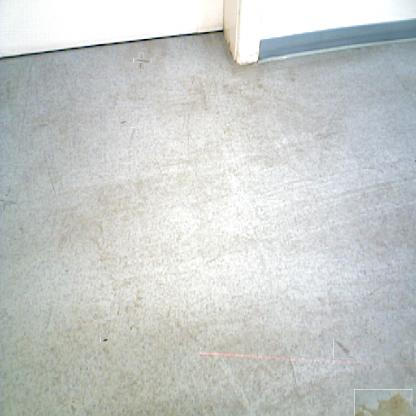liquid: (354, 389, 413, 416)
mark: (333, 338, 355, 359), (286, 354, 296, 384), (0, 191, 14, 208), (136, 55, 147, 66), (130, 127, 136, 142), (119, 118, 127, 126), (39, 120, 47, 128), (101, 336, 109, 343), (411, 160, 416, 165)
